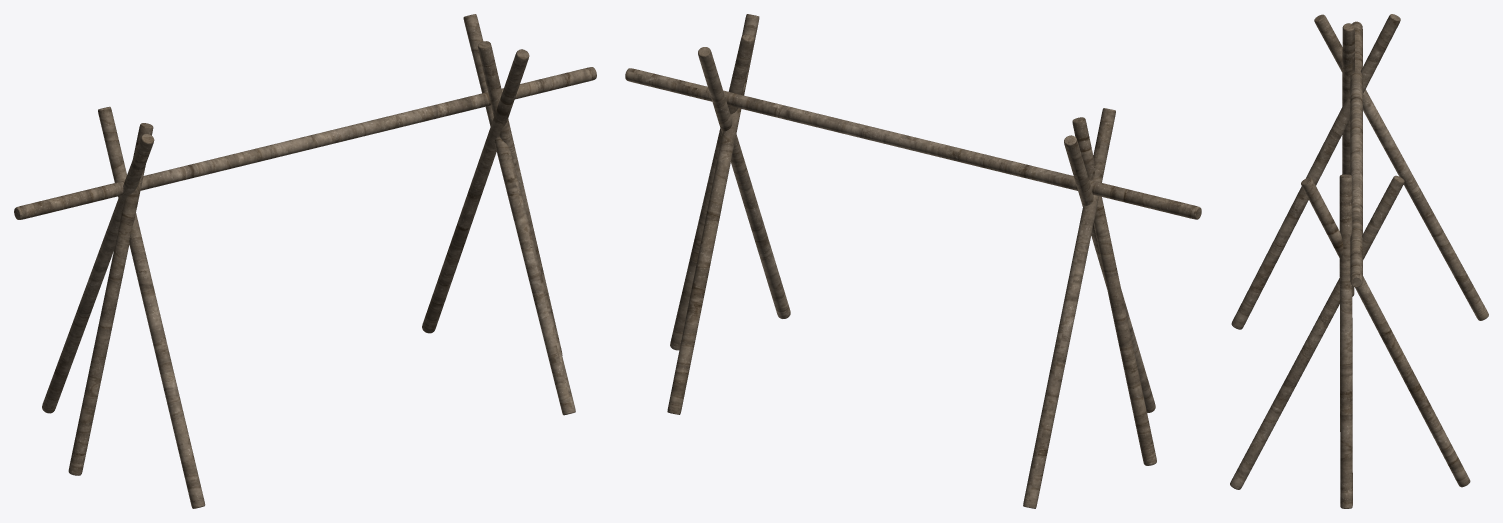
Rendered from FirePitStand.glb.
The picture shows the model from 3 angles, left to right: view 1: azimuth 30°, elevation 25°; view 2: azimuth 150°, elevation 25°; view 3: azimuth 270°, elevation 25°; orthographic projection. The views are drawn at different scales.
Visible parts, largest first — view 1: pCylinder4, pCylinder1, pCylinder6, pCylinder3, pCylinder7, pCylinder2, pCylinder5; view 2: pCylinder4, pCylinder2, pCylinder7, pCylinder3, pCylinder6, pCylinder5, pCylinder1; view 3: pCylinder5, pCylinder1, pCylinder7, pCylinder6, pCylinder2, pCylinder4, pCylinder3.
Boxes of the visible parts, x1,y1,x2,y2 form: pCylinder4: (14,67,596,219); pCylinder1: (98,106,205,508); pCylinder6: (463,14,575,415); pCylinder3: (68,123,153,475); pCylinder7: (422,49,529,333); pCylinder2: (42,133,154,413); pCylinder5: (477,41,562,355); pCylinder4: (625,68,1201,219); pCylinder2: (1023,108,1115,508); pCylinder7: (667,14,759,414); pCylinder3: (1072,117,1156,465); pCylinder6: (698,47,790,318); pCylinder5: (670,34,754,350); pCylinder1: (1064,135,1155,412); pCylinder5: (1339,174,1352,508); pCylinder1: (1231,14,1400,329); pCylinder7: (1301,177,1470,487); pCylinder6: (1230,175,1404,489); pCylinder2: (1314,14,1488,320); pCylinder4: (1350,21,1362,287); pCylinder3: (1342,23,1354,296).
Bounding box in the file's own units: 13.21 × 7.51 × 5.65.
1 material, 1 textured.
